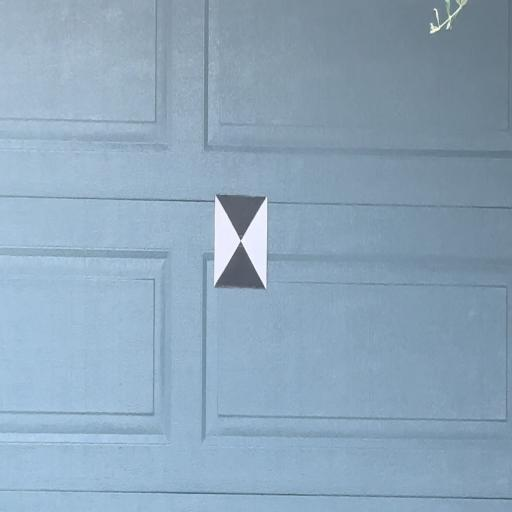target: (215, 195, 266, 286)
